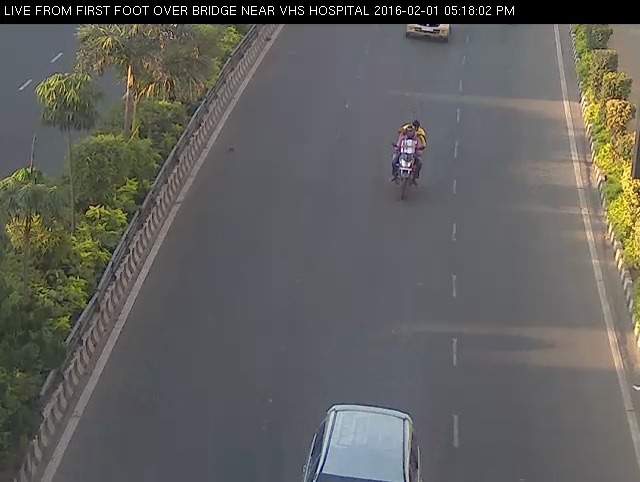Car: (289, 398, 442, 482), (401, 19, 457, 53)
Person: (381, 117, 438, 205)
